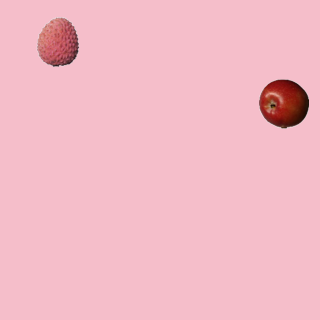Apple Braeburn: (258, 78, 308, 128)
Lychee: (32, 16, 82, 66)
